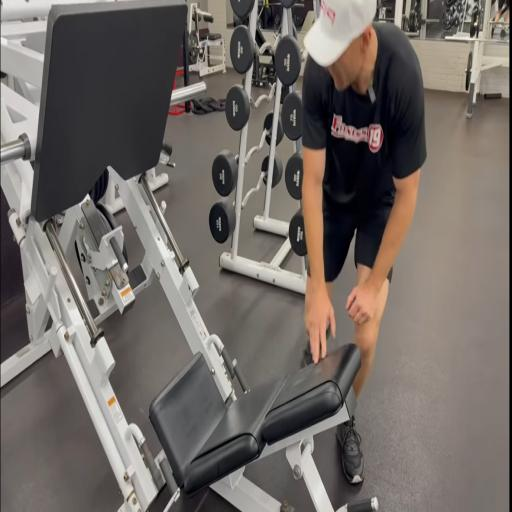Leg Press: (12, 8, 353, 488)
